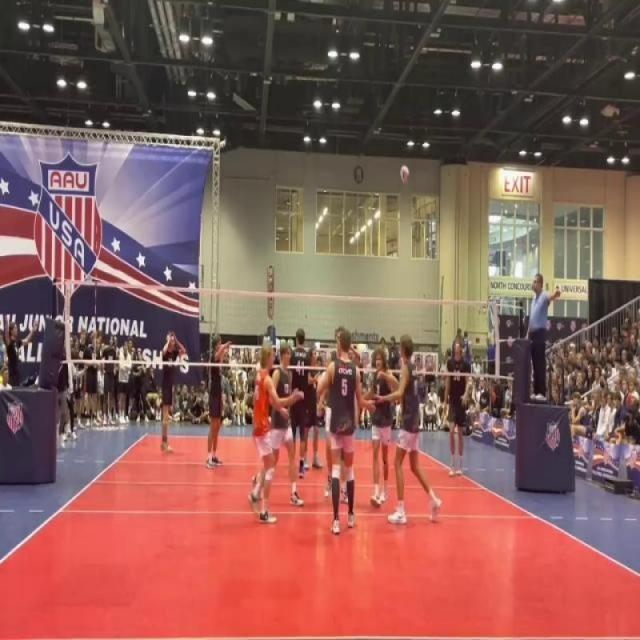volleyball: (399, 164, 411, 186)
